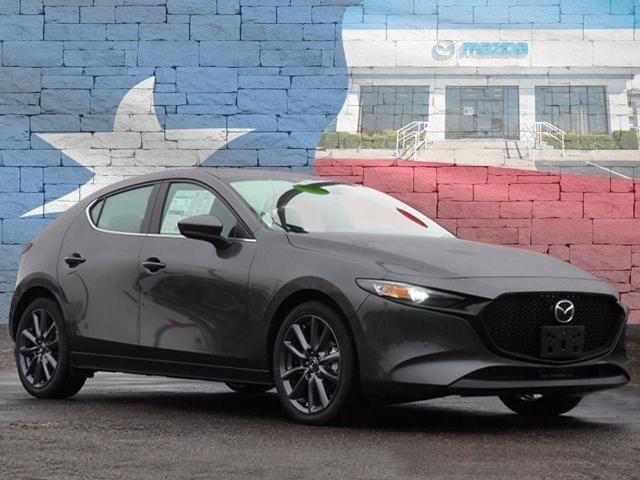Mazda3 Hatchback: (7, 166, 633, 428)
